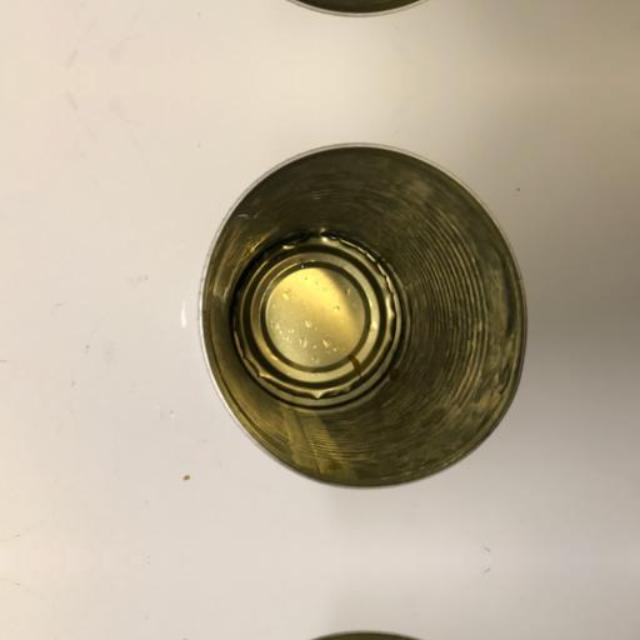Metal: (178, 142, 536, 506), (178, 614, 535, 640), (178, 0, 535, 17)
